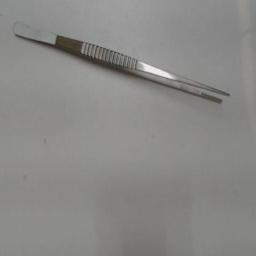DeBakey Dissector: (10, 14, 244, 120)
